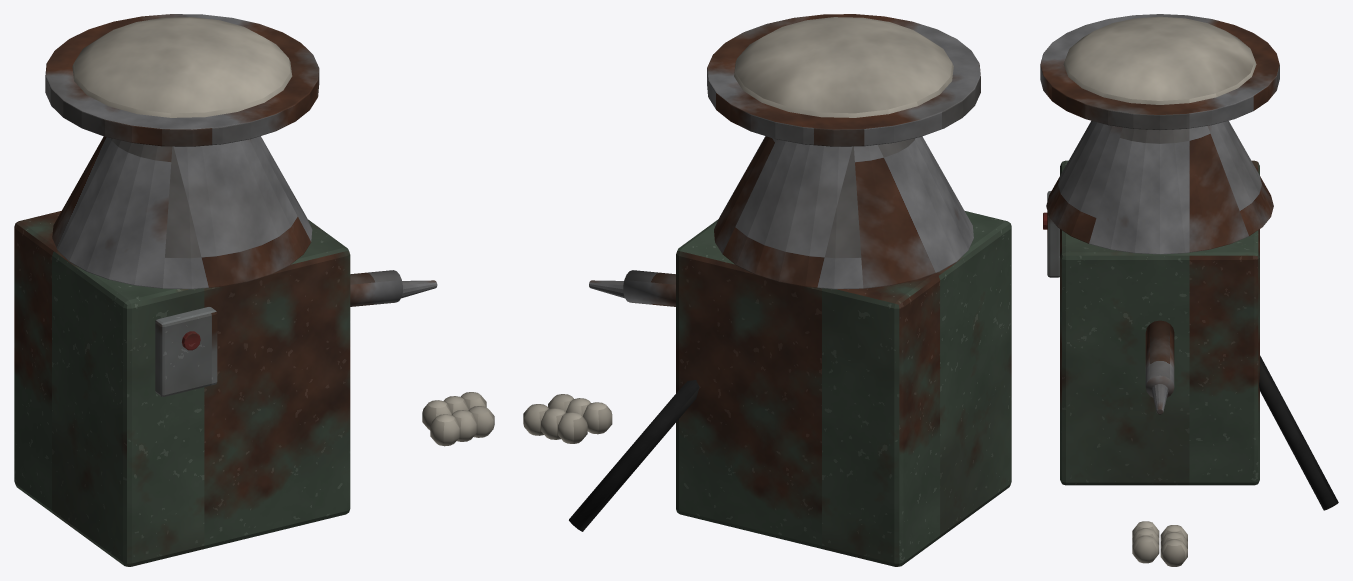
File: F42_stuffing_machine.glb
The picture shows the model from 3 angles, left to right: view 1: azimuth 30°, elevation 25°; view 2: azimuth 150°, elevation 25°; view 3: azimuth 270°, elevation 25°; orthographic projection. The views are drawn at different scales.
Parts seen in each view (by area): view 1: F42_stuffing_machine; view 2: F42_stuffing_machine; view 3: F42_stuffing_machine.
Part boxes in pixels (x1,y1,x2,y2): F42_stuffing_machine: (14, 14, 494, 566); F42_stuffing_machine: (523, 14, 1011, 566); F42_stuffing_machine: (1040, 14, 1338, 566).
Size of the model in its own units: 1.46 by 1.5 by 1.01.
Materials: 6 (6 with a texture image).
